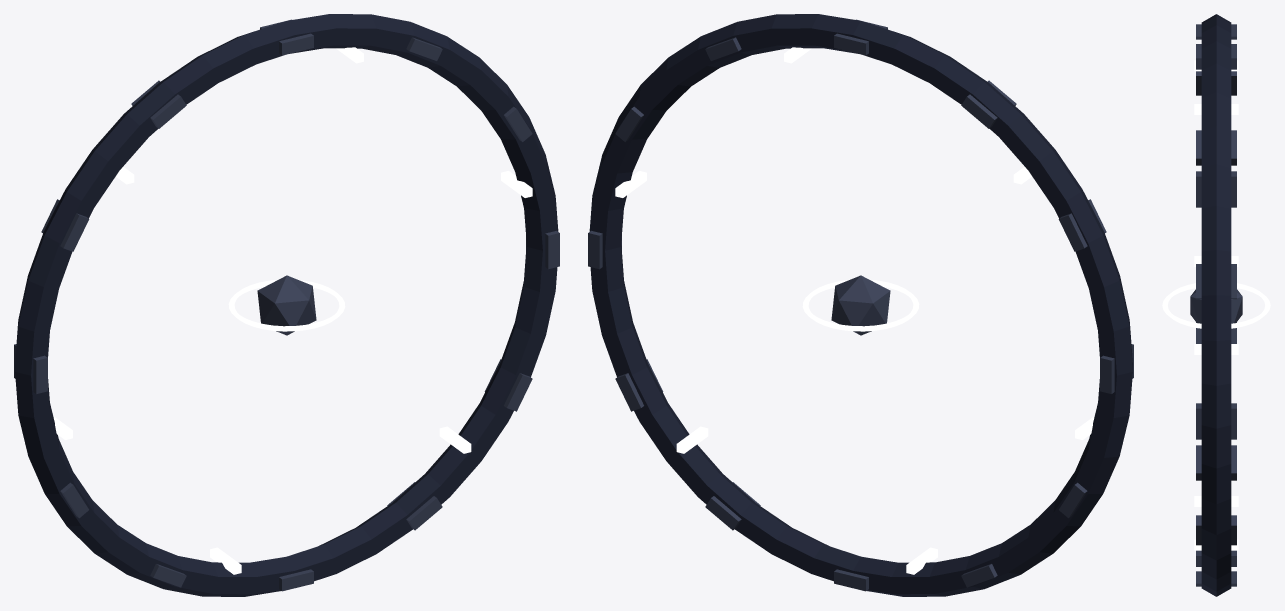
File: tunnel.glb
3 views of the same model, side by side, from view 1: azimuth 30°, elevation 25°; view 2: azimuth 150°, elevation 25°; view 3: azimuth 270°, elevation 25° (orthographic). The views are drawn at different scales.
Parts seen in each view (by area): view 1: Tunnel_Ring, Router_Node; view 2: Tunnel_Ring, Router_Node; view 3: Tunnel_Ring, Router_Node.
Boxes of the visible parts, box(x1,y1,x2,y2) form: Tunnel_Ring: box(14, 14, 559, 596); Router_Node: box(228, 275, 345, 335); Tunnel_Ring: box(588, 14, 1133, 596); Router_Node: box(802, 275, 919, 335); Tunnel_Ring: box(1194, 14, 1238, 596); Router_Node: box(1162, 283, 1270, 328).
Size of the model in its own units: 8.5 by 8.5 by 1.58.
